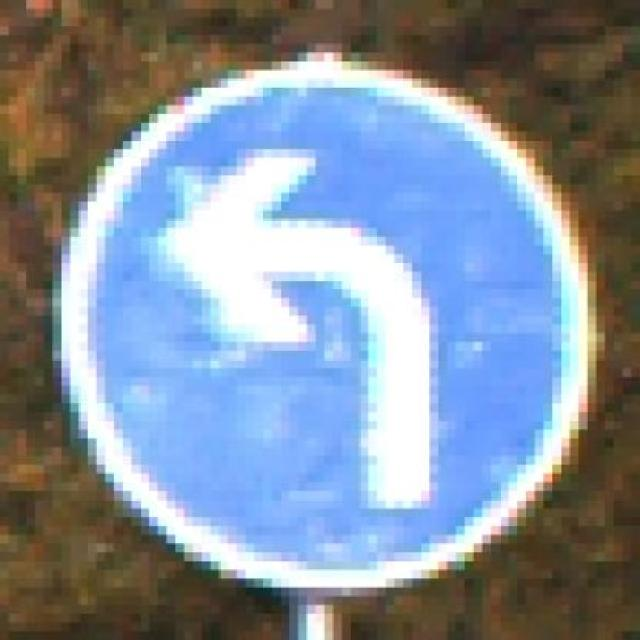Turn left ahead: (52, 34, 597, 606)
